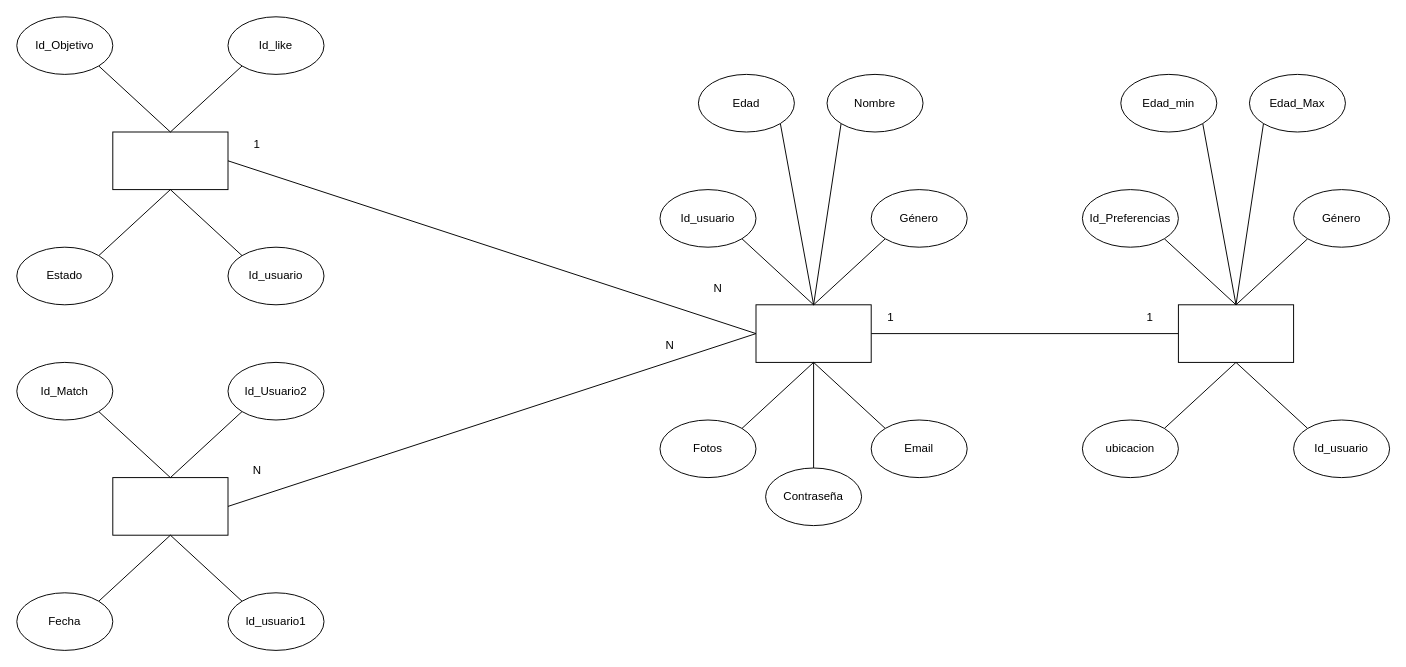
Some shapes in this 1406 by 667 pixel diagram are drawn without their labels. Here are the shapes that lost their labels. From the top down, the box of each, then its label:
(112, 131, 228, 190): Like
(755, 304, 871, 362): Usuario
(1177, 304, 1294, 362): Preferencias
(112, 477, 228, 535): Match
